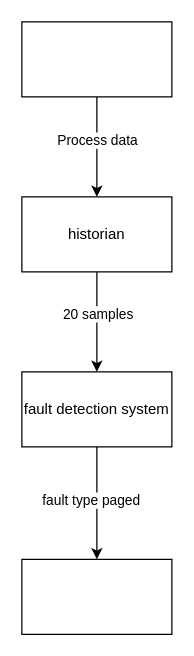
The diagram is 194 pixels wide and 656 high, and some of its shapes have lost their labels. Here are the shapes that lost their labels. From the top down, the centre of each, then its label:
At (96,59): "sensors".
At (96,596): "operator".
